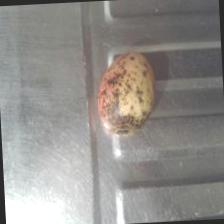Mango Overripe: (94, 44, 160, 136)
